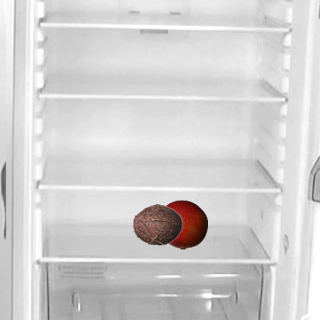Apple Braeburn: (157, 199, 207, 249)
Cocos: (132, 199, 182, 249)
